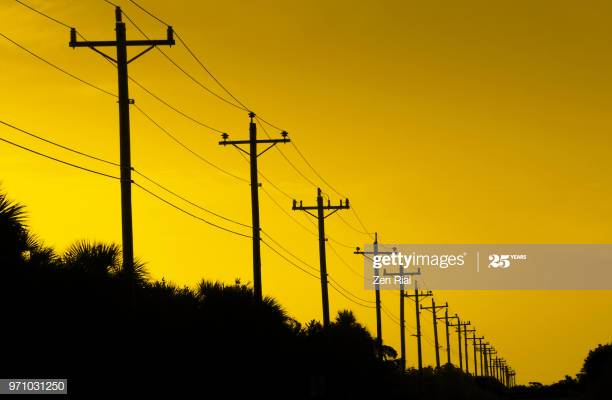utility_pole: (60, 2, 182, 112), (210, 102, 295, 185), (287, 178, 354, 238)
